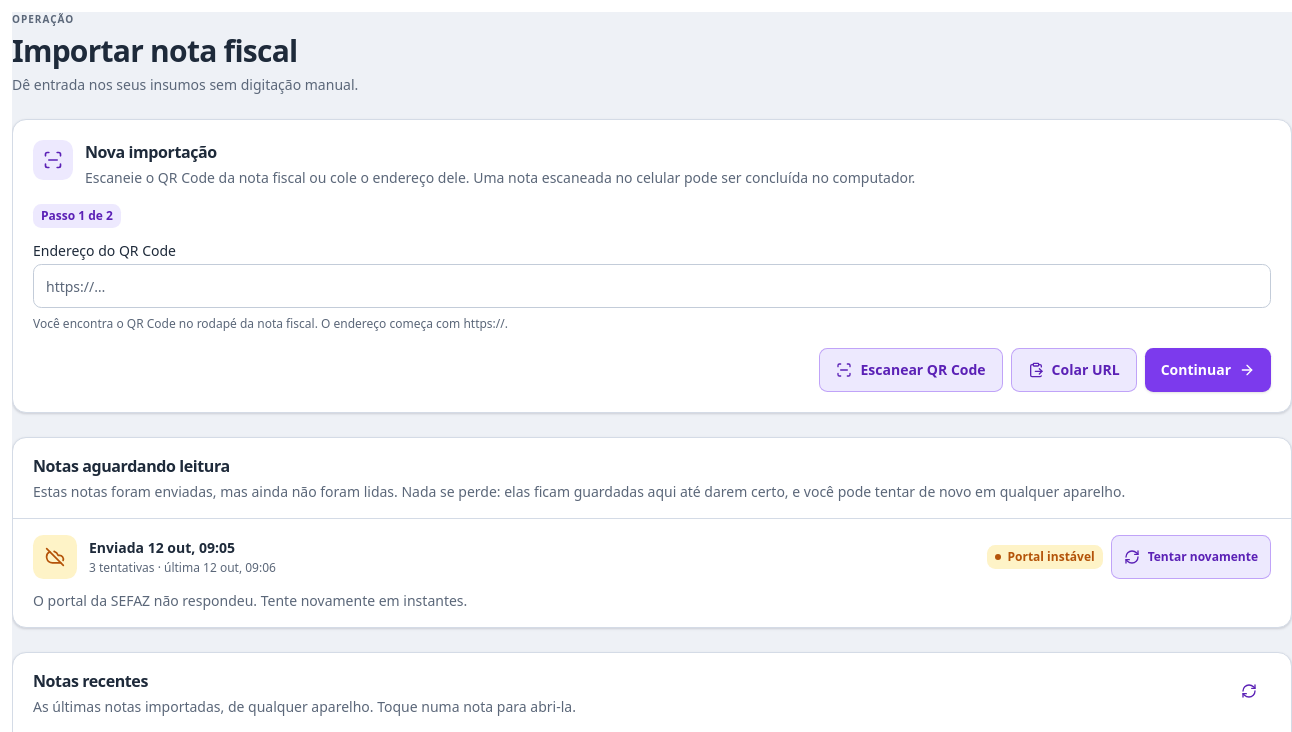
Test: trying again › reprocesses the note, and it leaves the queue once it has been read
Click the button "Tentar novamente": (1191, 557) 1111,535 -> 1271,579
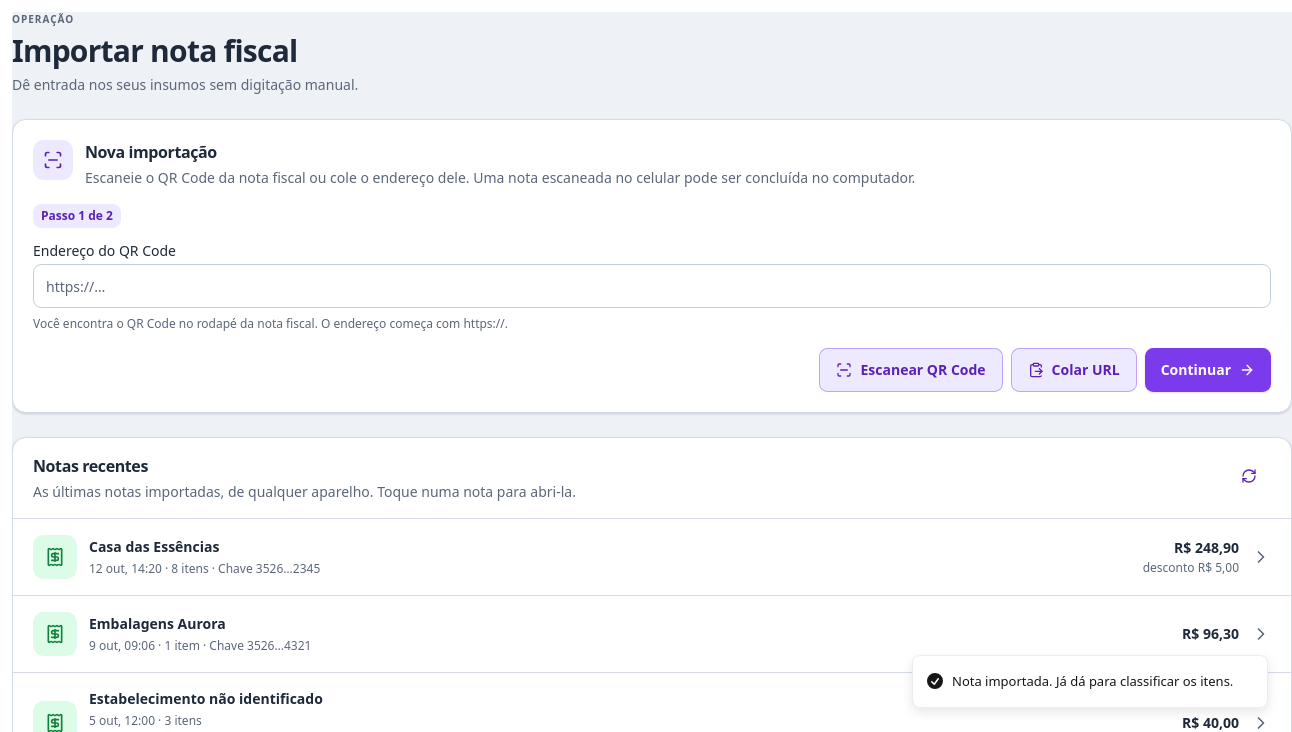
Now the text "Nota importada. Já dá para classificar os itens." is shown, box 952,672 -> 1233,691
Now the heading "Notas aguardando leitura" is gone
